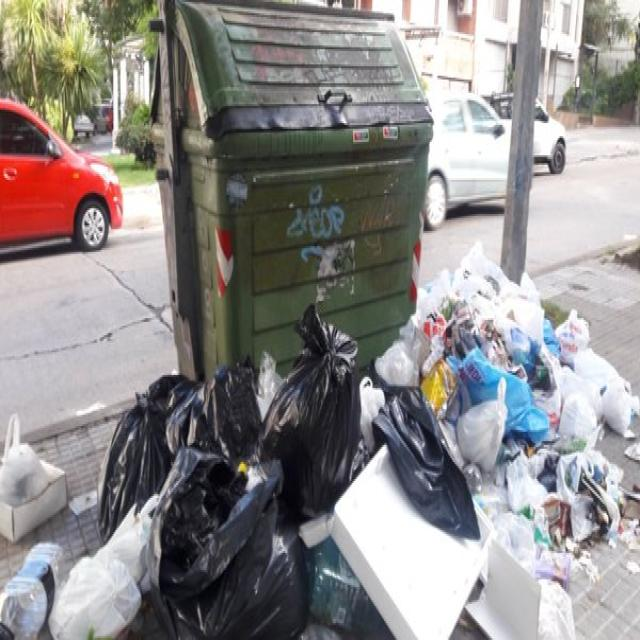garbage: (125, 362, 557, 638), (424, 242, 640, 467), (0, 494, 148, 638), (543, 446, 640, 565), (0, 413, 79, 542)
